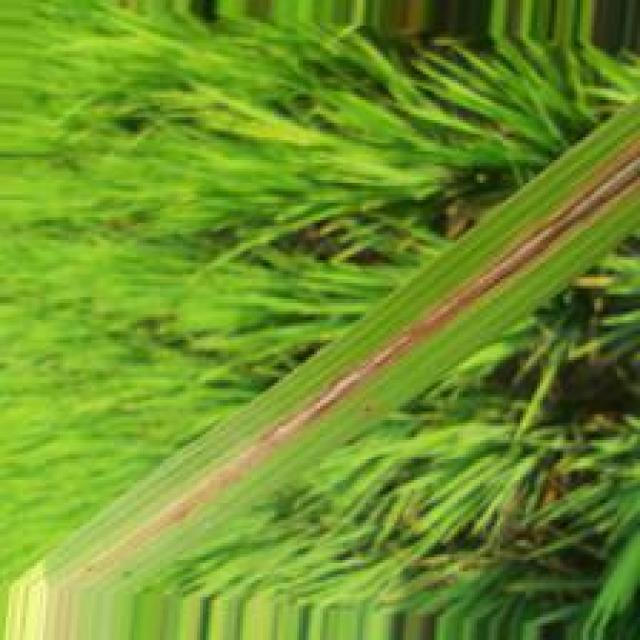Rice Tungro: (119, 145, 640, 555)
